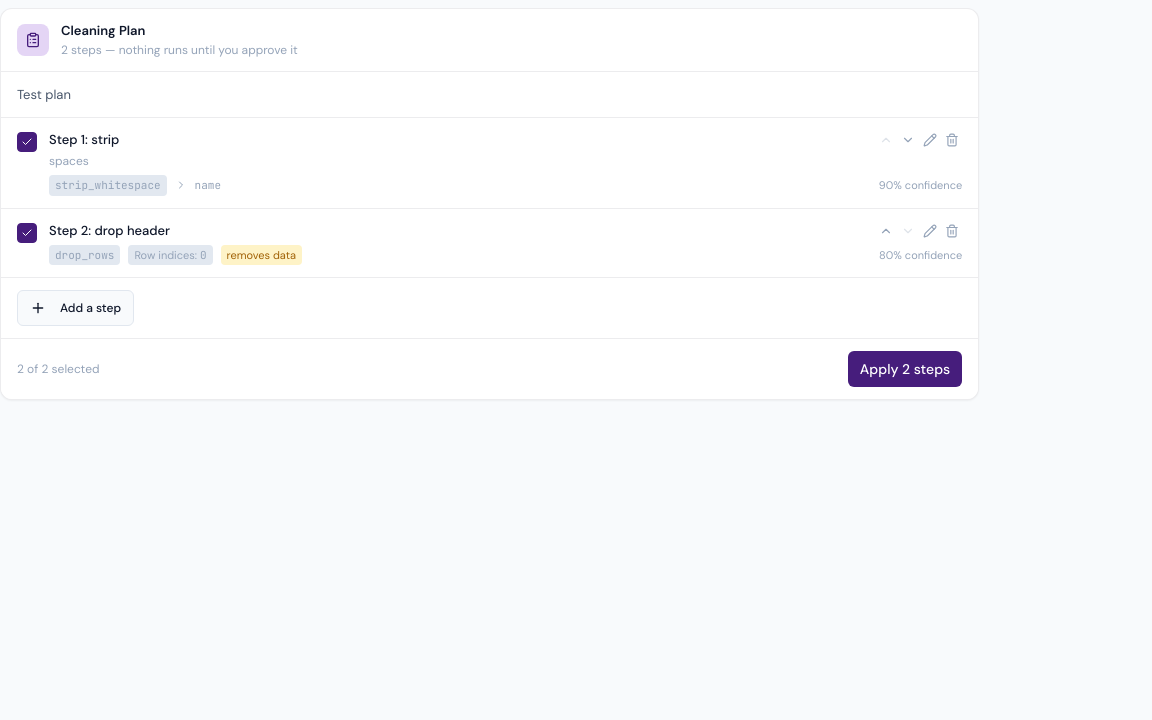
Test: CleaningPlanCard — editing › marks an edited step so the reviewer can see what they changed
Check: the button "Add a step" is enabled, box [17,290,134,326]
Click the button named "Edit step 1 settings".
click(930, 140)  # box [920,130,940,150]
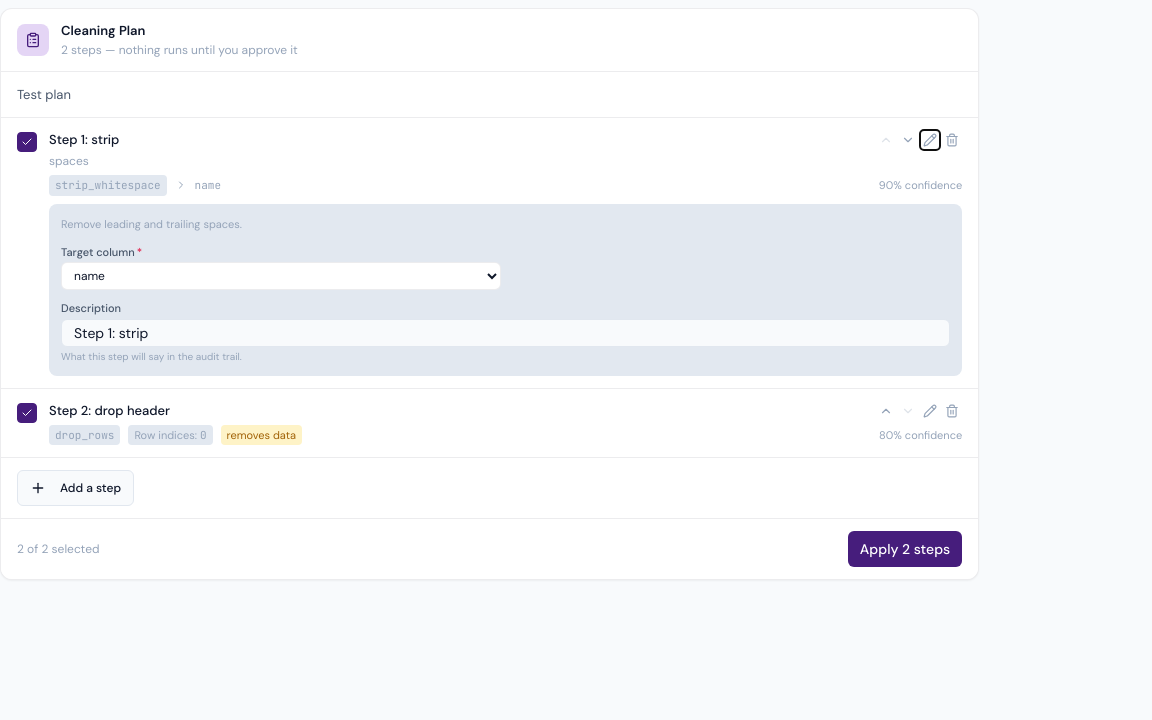
Select "amount" in the dropdown labelled "Target column*" at (281, 276), box [61,262,501,290]
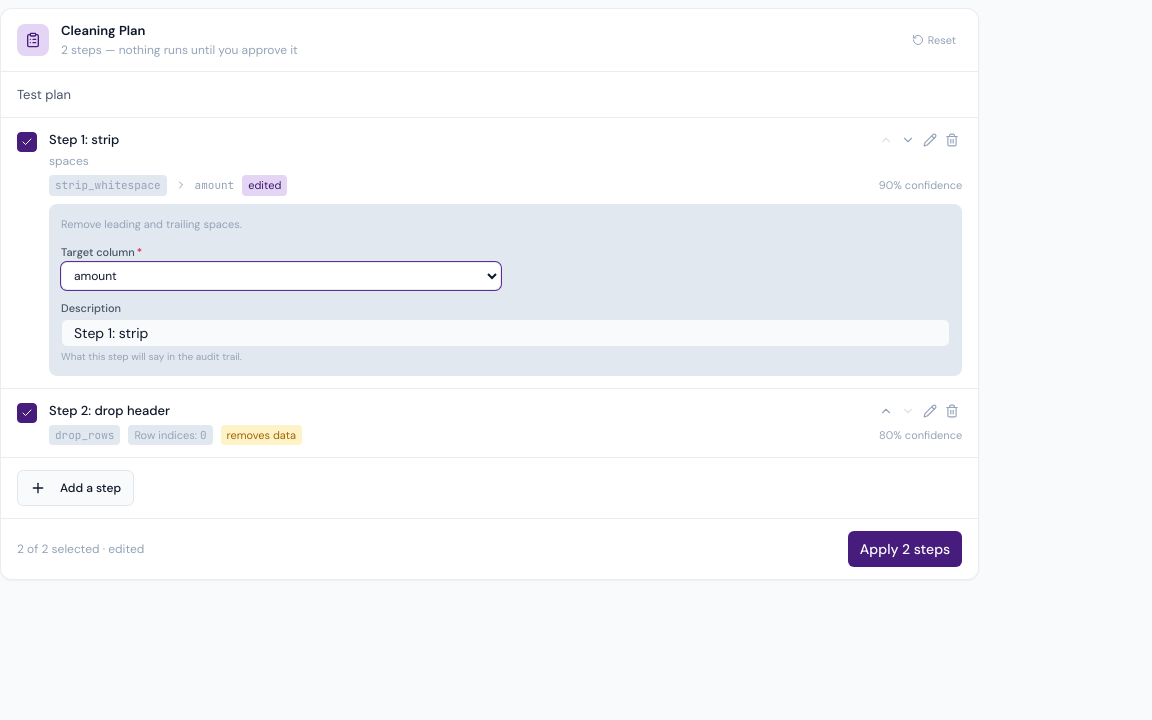
Check: the text "edited" is shown, box [242,175,287,196]
Check: the text "2 of 2 selected · edited" is shown, box [17,540,144,558]
